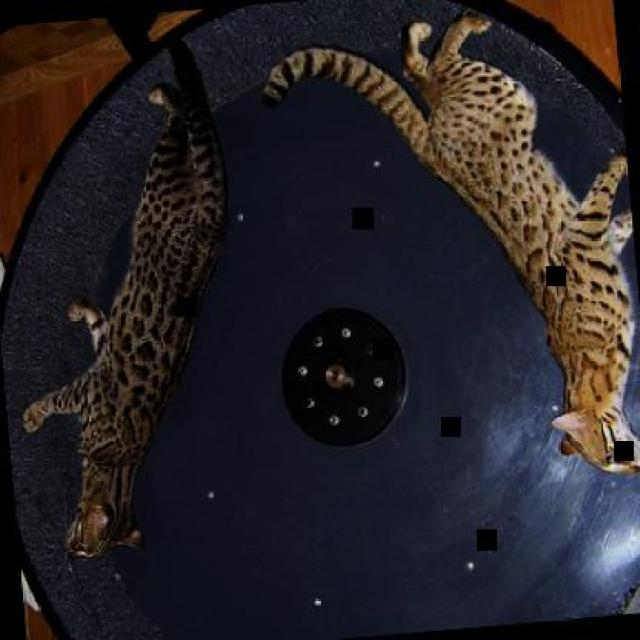cat: (256, 0, 638, 506), (0, 31, 260, 563)
